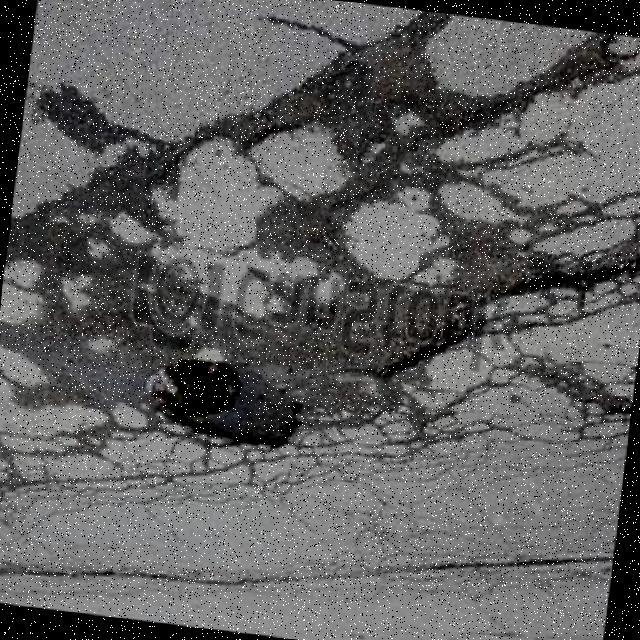Pothole: (147, 357, 303, 447)
